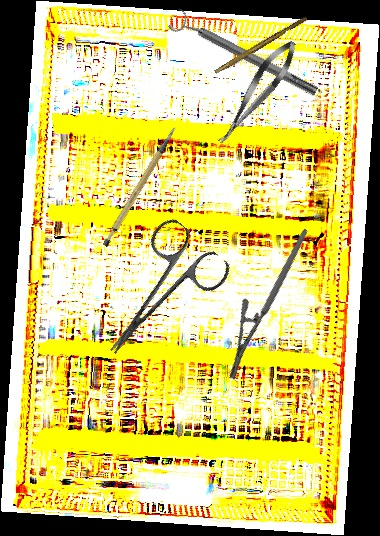Fixation Ring: (167, 5, 322, 105)
Iris Scissors: (77, 213, 235, 378)
Micro Scissor: (210, 34, 304, 151)
Needle Holder: (191, 228, 347, 382)
Scalpel Handle: (87, 126, 195, 249), (214, 14, 308, 77)
